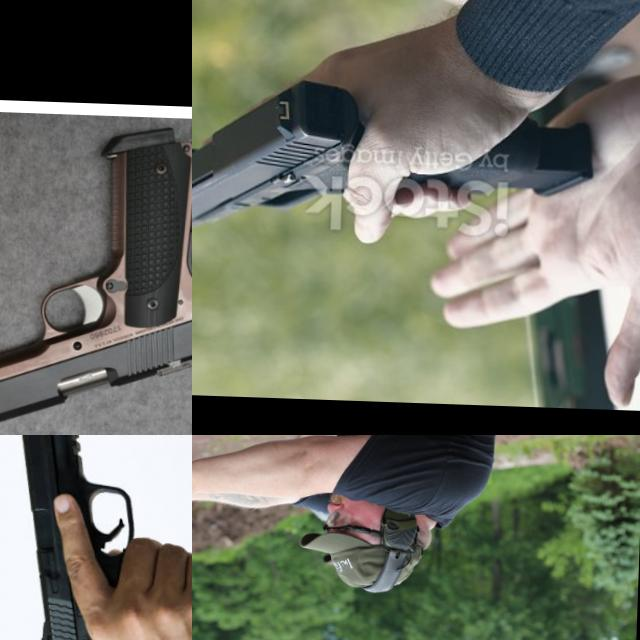handgun: (0, 111, 192, 435), (192, 67, 378, 257), (1, 435, 139, 640), (192, 483, 243, 521)
